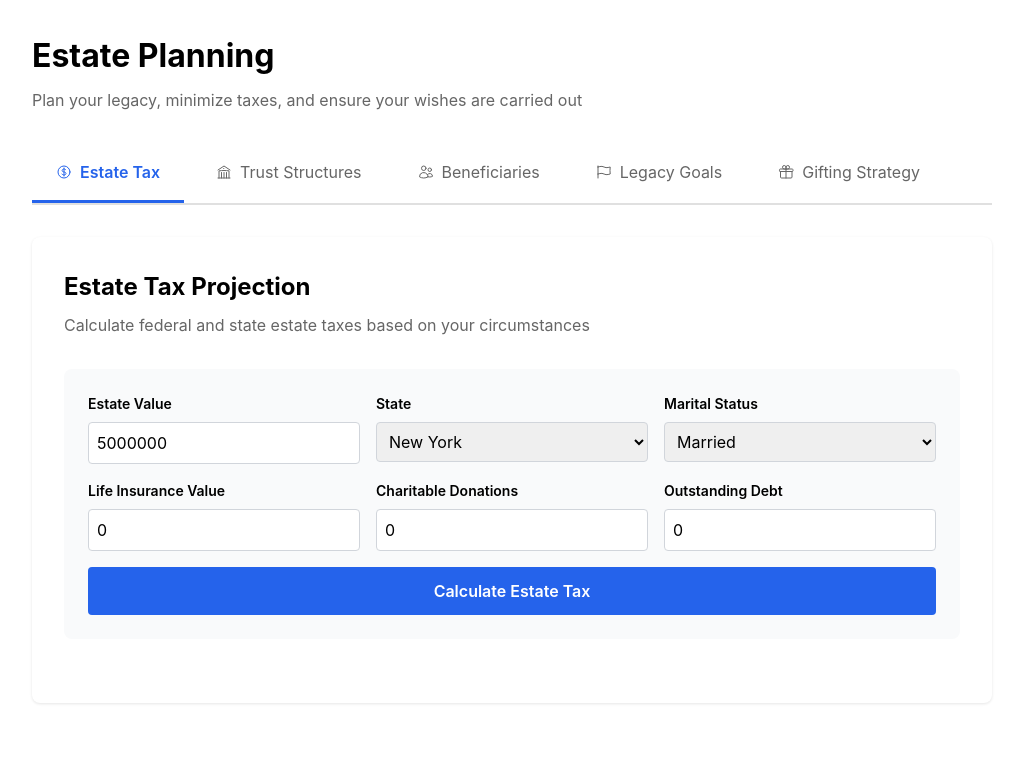
Estate Planning Dashboard › switches between tabs
Step 1. Click the button "Trust Structures" → (289, 174), box x1=192 y1=144 x2=386 y2=203
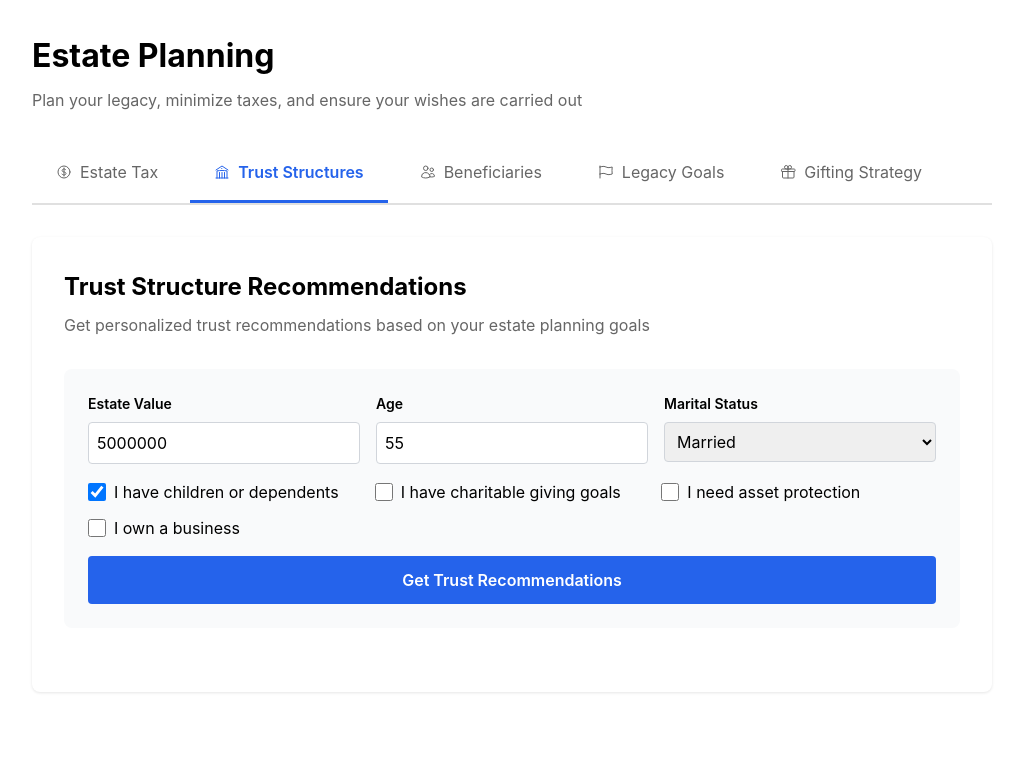
Now the heading "Trust Structure Recommendations" is shown, box x1=64 y1=272 x2=467 y2=301
